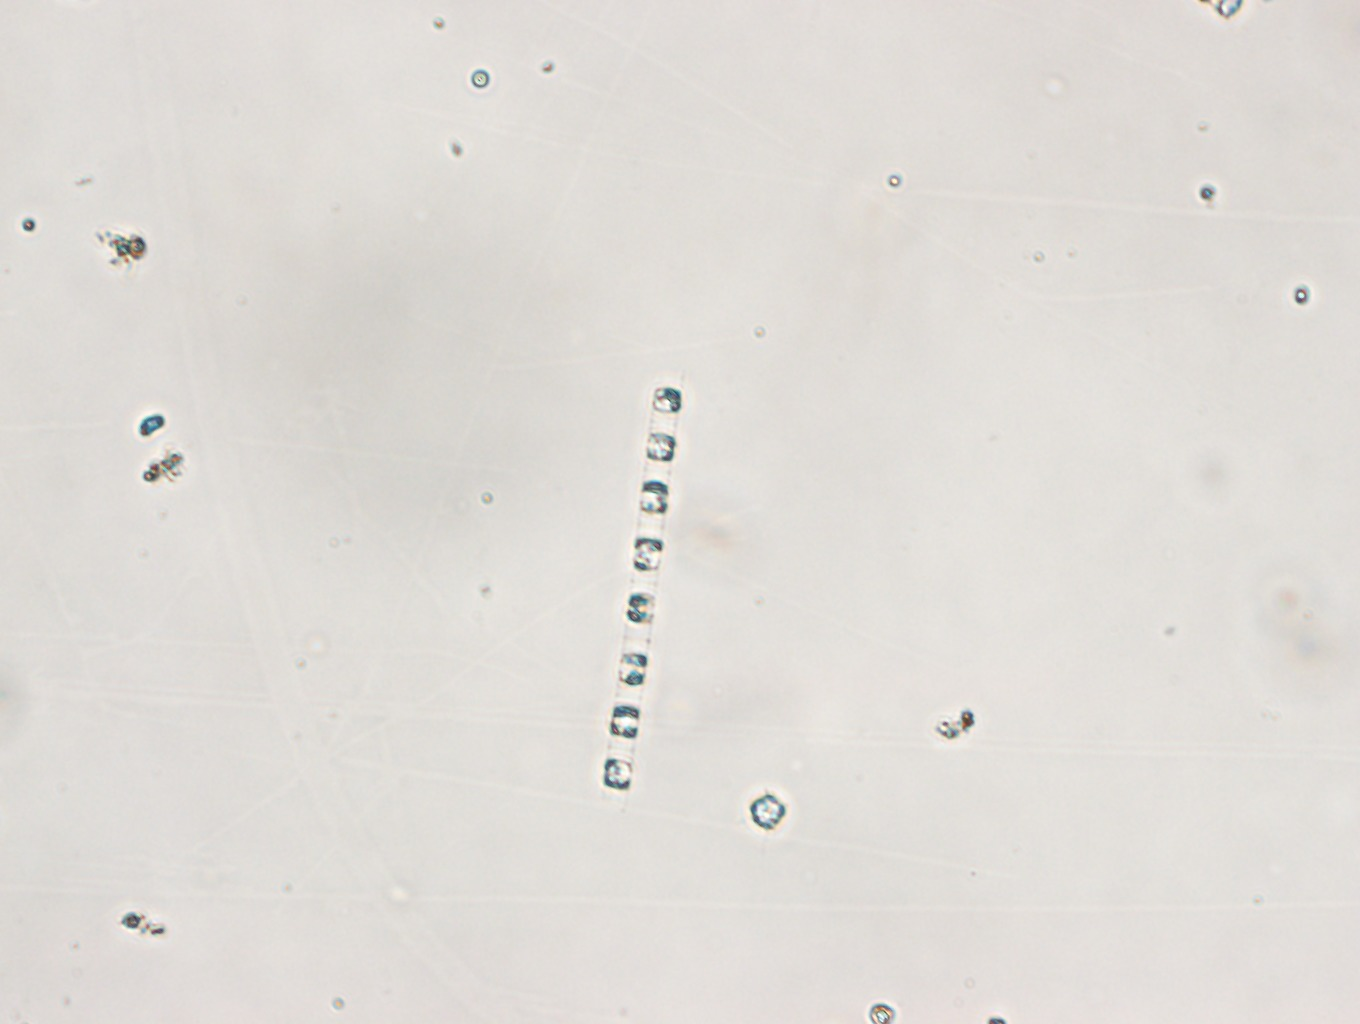skeletonema: (598, 373, 696, 792)
